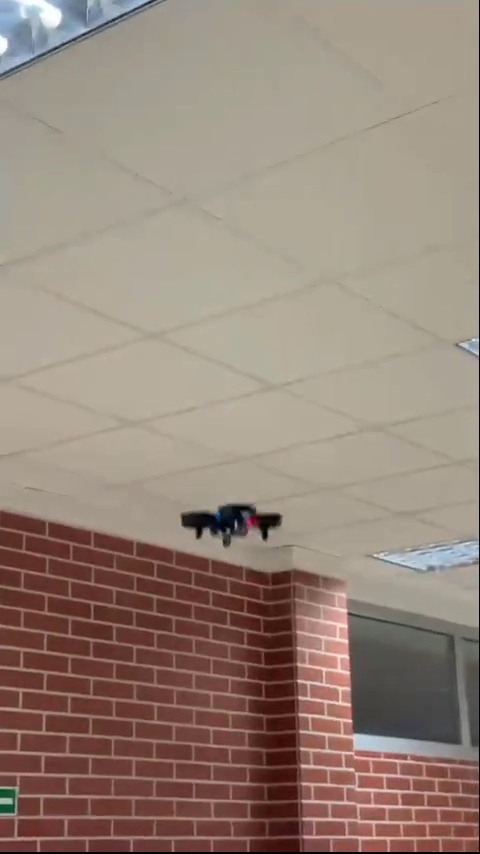drone: (177, 505, 286, 553)
